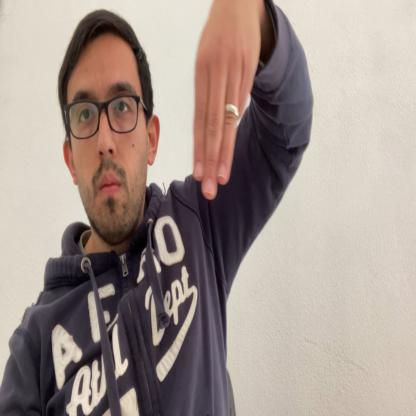M: (192, 0, 260, 200)
